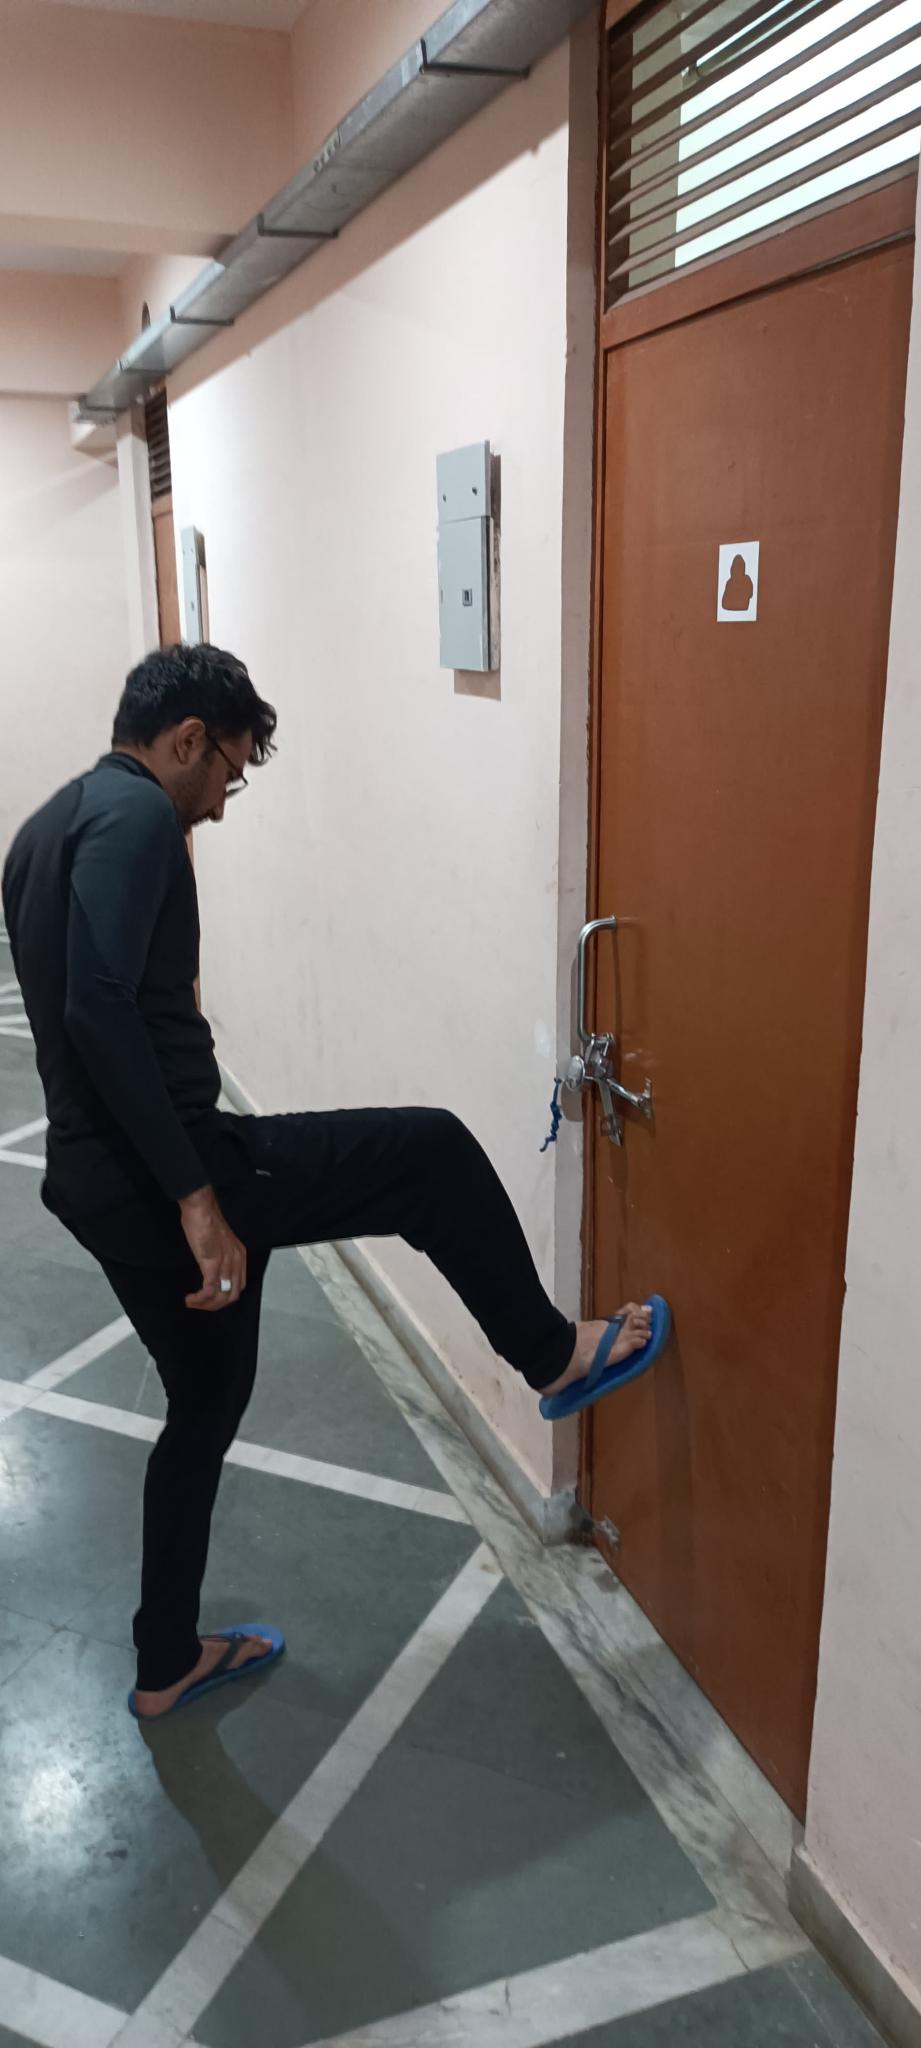suspicion: (5, 601, 759, 1797)
